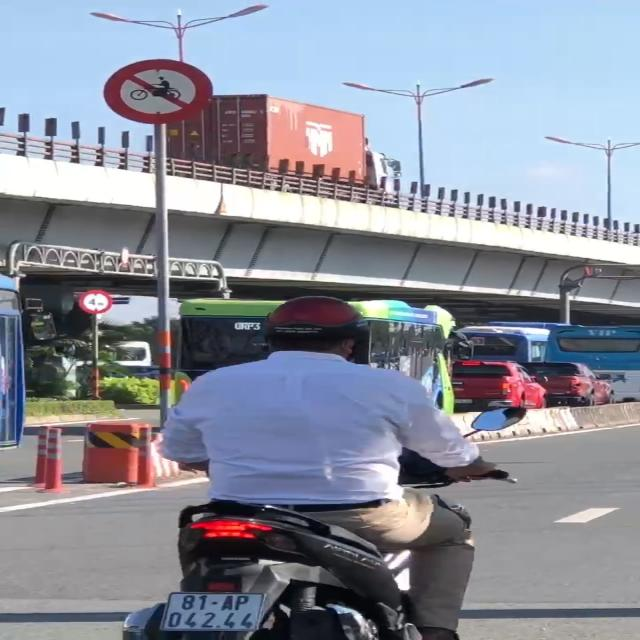Bien bao cam xe may: (104, 55, 222, 123)
